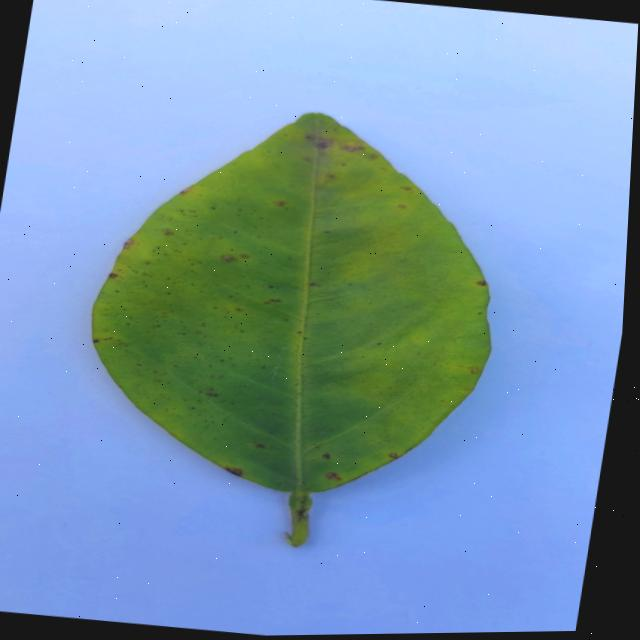greening: (91, 112, 489, 545)
